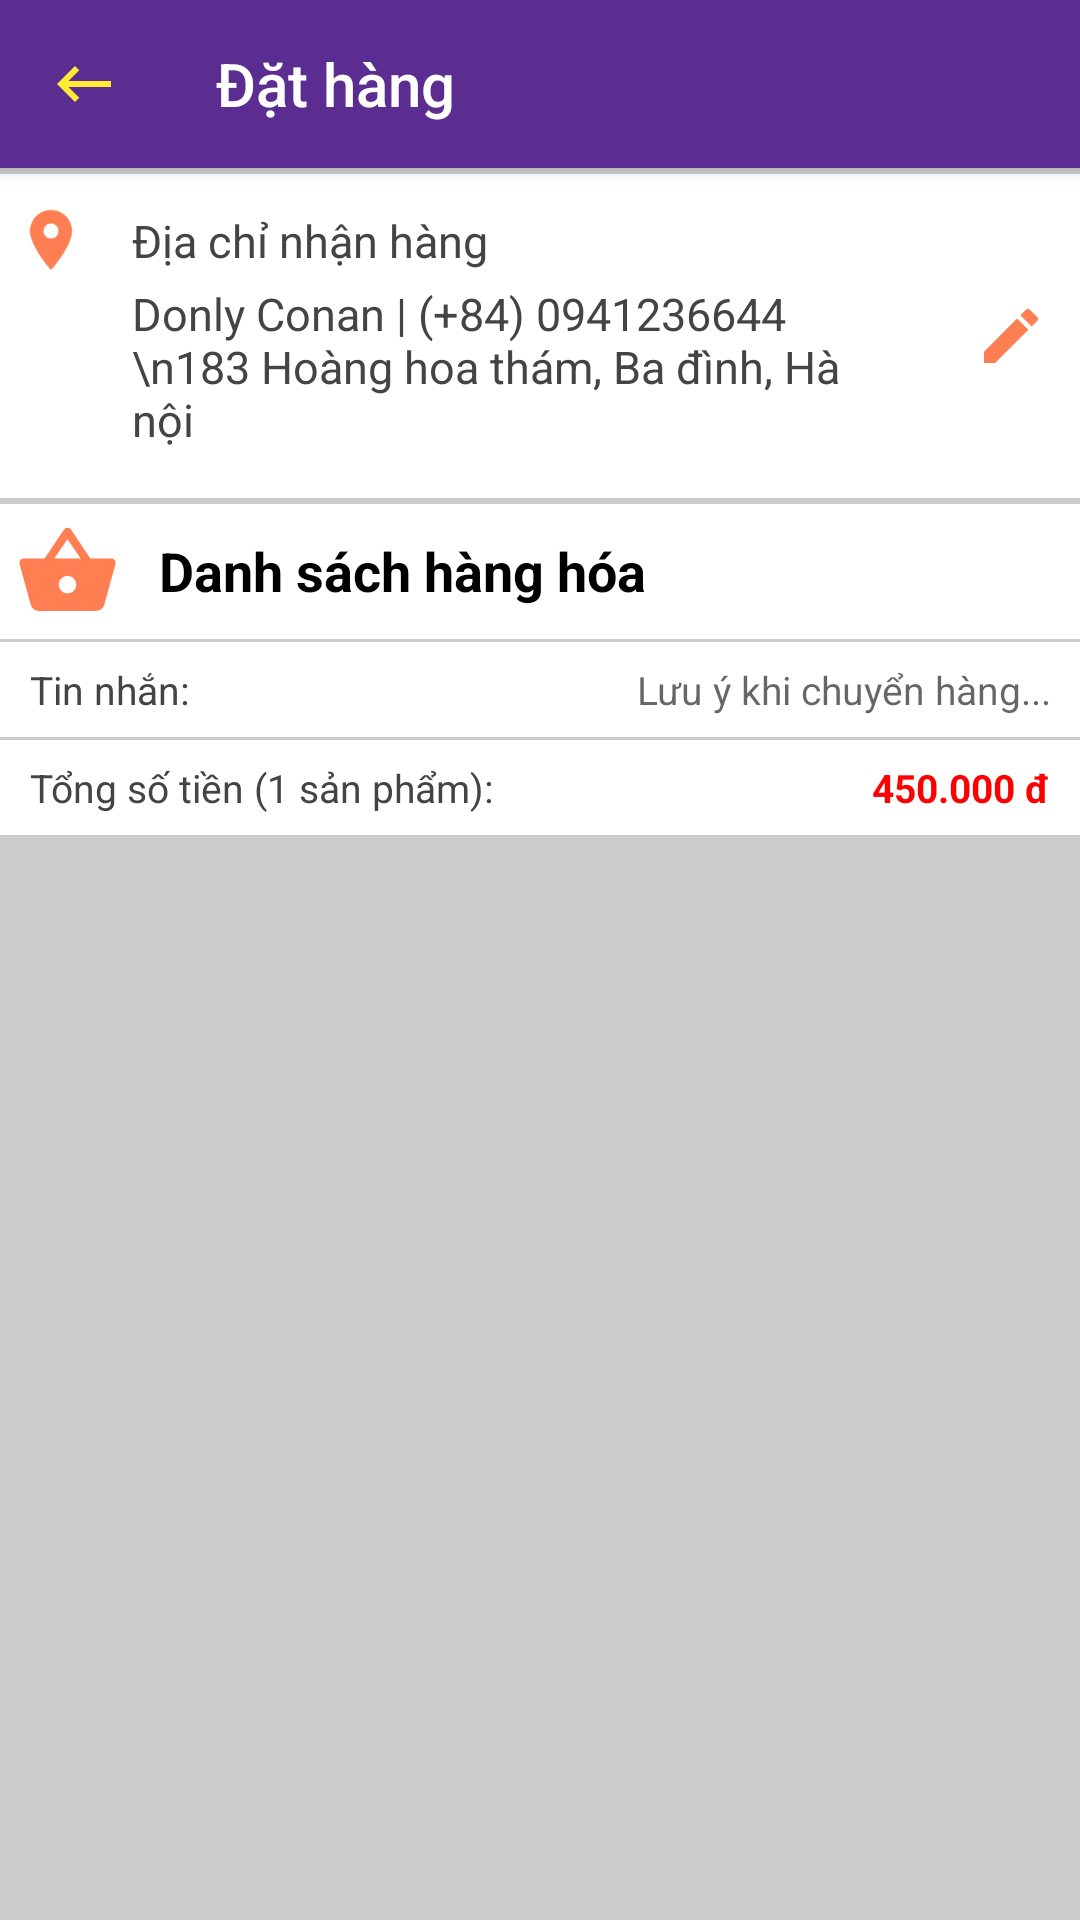

Named icons in this screenshot (1080 × 1920) and their centers, point (x, y):
edit: point (1011, 336)
location: point (51, 239)
shopping basket: point (67, 569)
